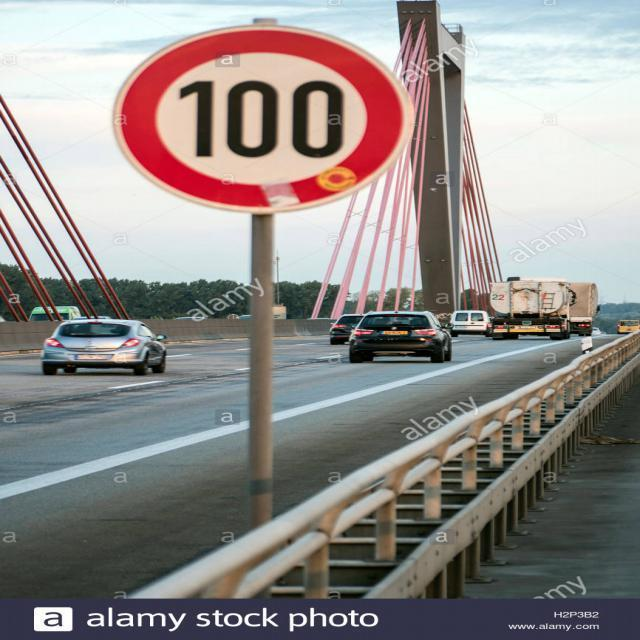speed limit 100: (110, 25, 414, 216)
